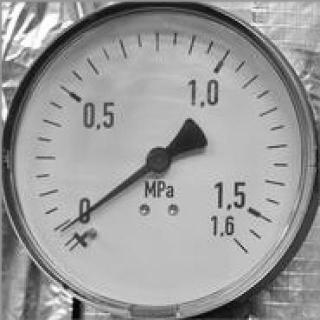gauge: (0, 0, 320, 320), (56, 197, 112, 257), (199, 211, 262, 263), (146, 146, 172, 175), (57, 222, 73, 236)
